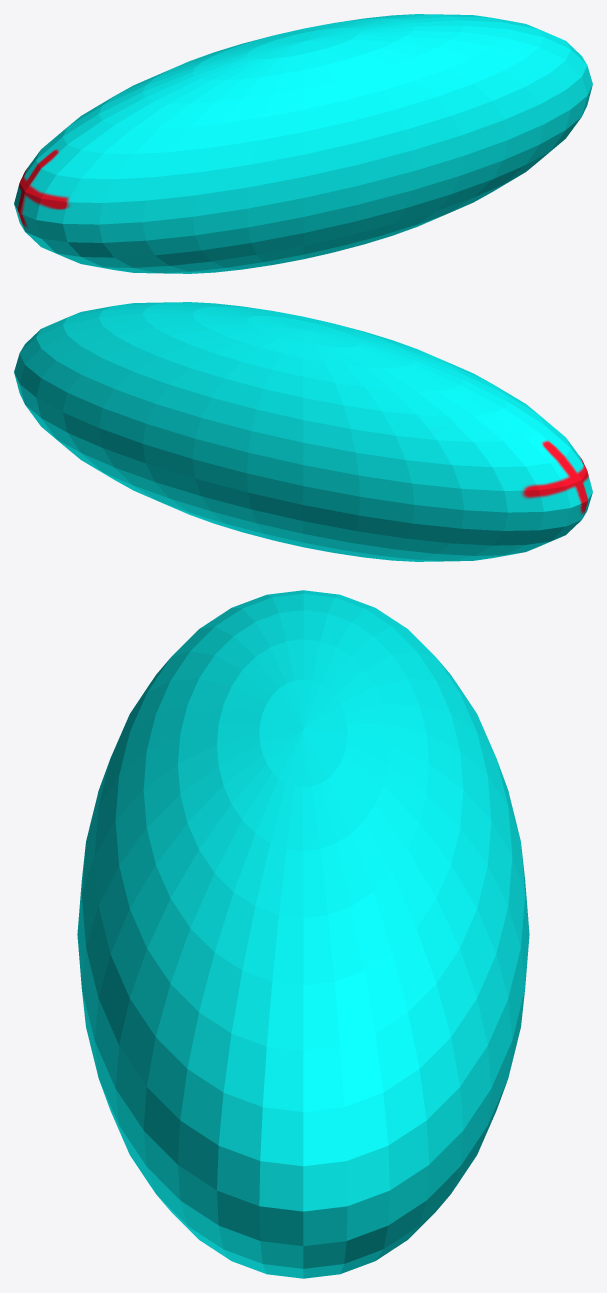
The model's file is cell.obj.
3 views of the same model, one above another, from view 1: azimuth 30°, elevation 25°; view 2: azimuth 150°, elevation 25°; view 3: azimuth 270°, elevation 25° (orthographic). The views are drawn at different scales.
Parts seen in each view (by area): view 1: Sphere; view 2: Sphere; view 3: Sphere.
Boxes of the visible parts, x1,y1,x2,y2 form: Sphere: [14, 14, 592, 273]; Sphere: [14, 302, 592, 561]; Sphere: [77, 590, 529, 1278].
Size of the model in its own units: 5.8 by 2 by 2.
1 material, 1 textured.
